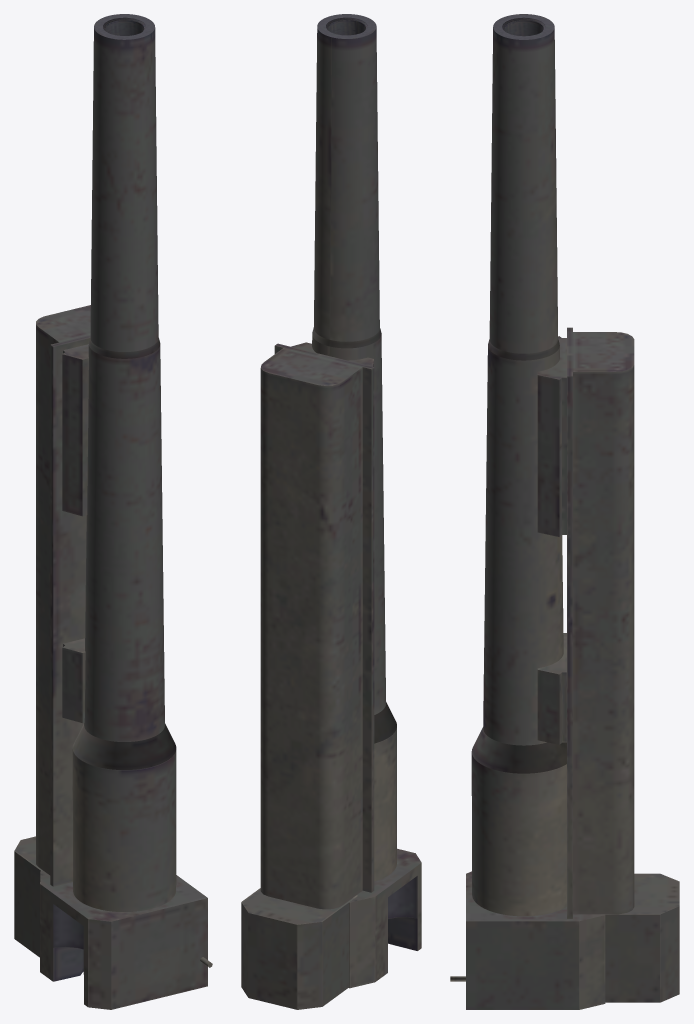
The model's file is Gun_01.glb.
3 views of the same model, side by side, from view 1: azimuth 30°, elevation 25°; view 2: azimuth 150°, elevation 25°; view 3: azimuth 270°, elevation 25° (orthographic). The views are drawn at different scales.
Visible parts, largest first — view 1: set_0_group_0; view 2: set_0_group_0; view 3: set_0_group_0.
Part boxes in pixels (<box>): set_0_group_0: <box>14,14,212,1009</box>; set_0_group_0: <box>241,14,421,1009</box>; set_0_group_0: <box>450,14,679,1009</box>.
Bounding box in the file's own units: 0.2818 × 2.3 × 0.4987.
Materials: 1 (1 with a texture image).
